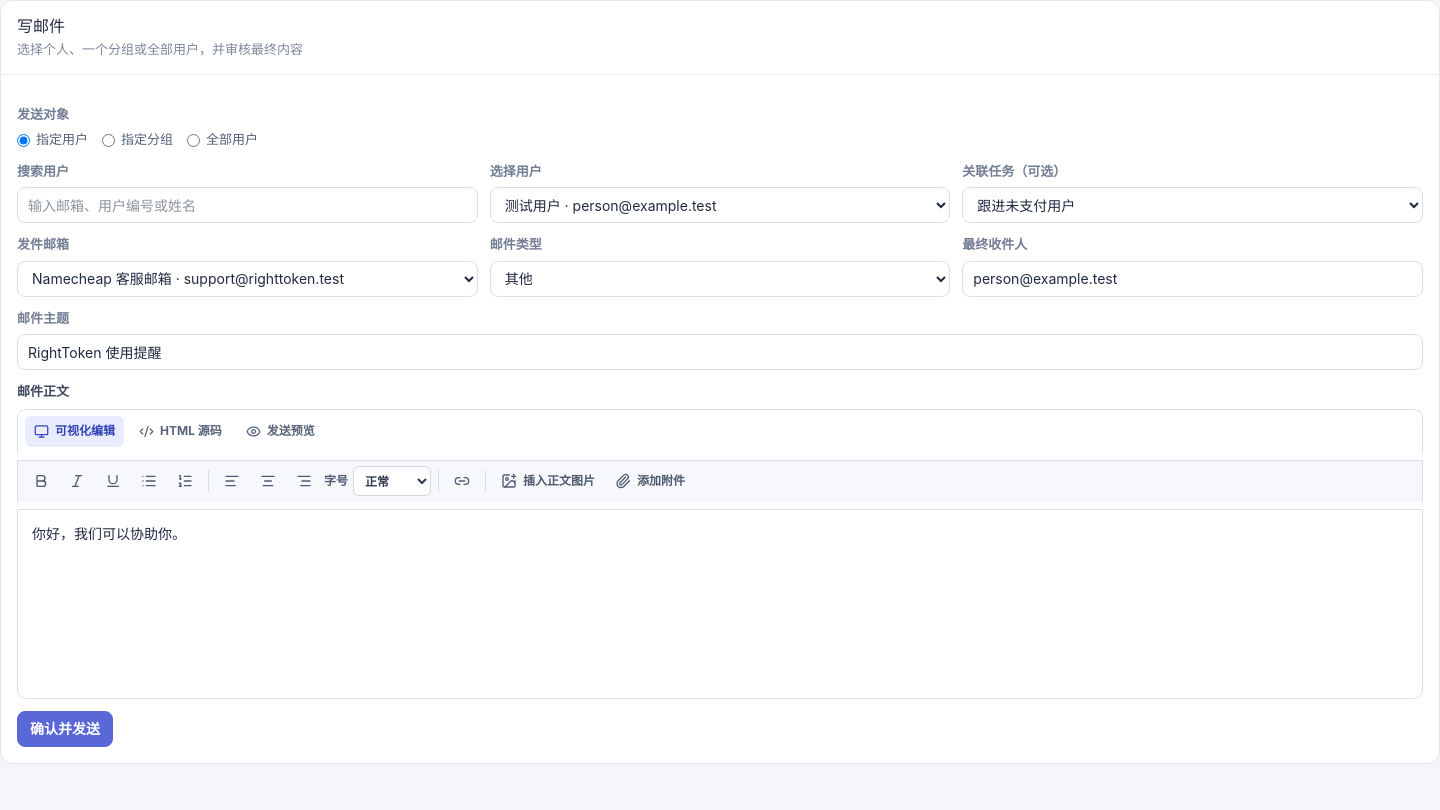
it: MailComposer › blocks an invalid final recipient
Replace the text in the field labelled "最终收件人" with "invalid-email": (1193, 279) [962,261,1423,297]
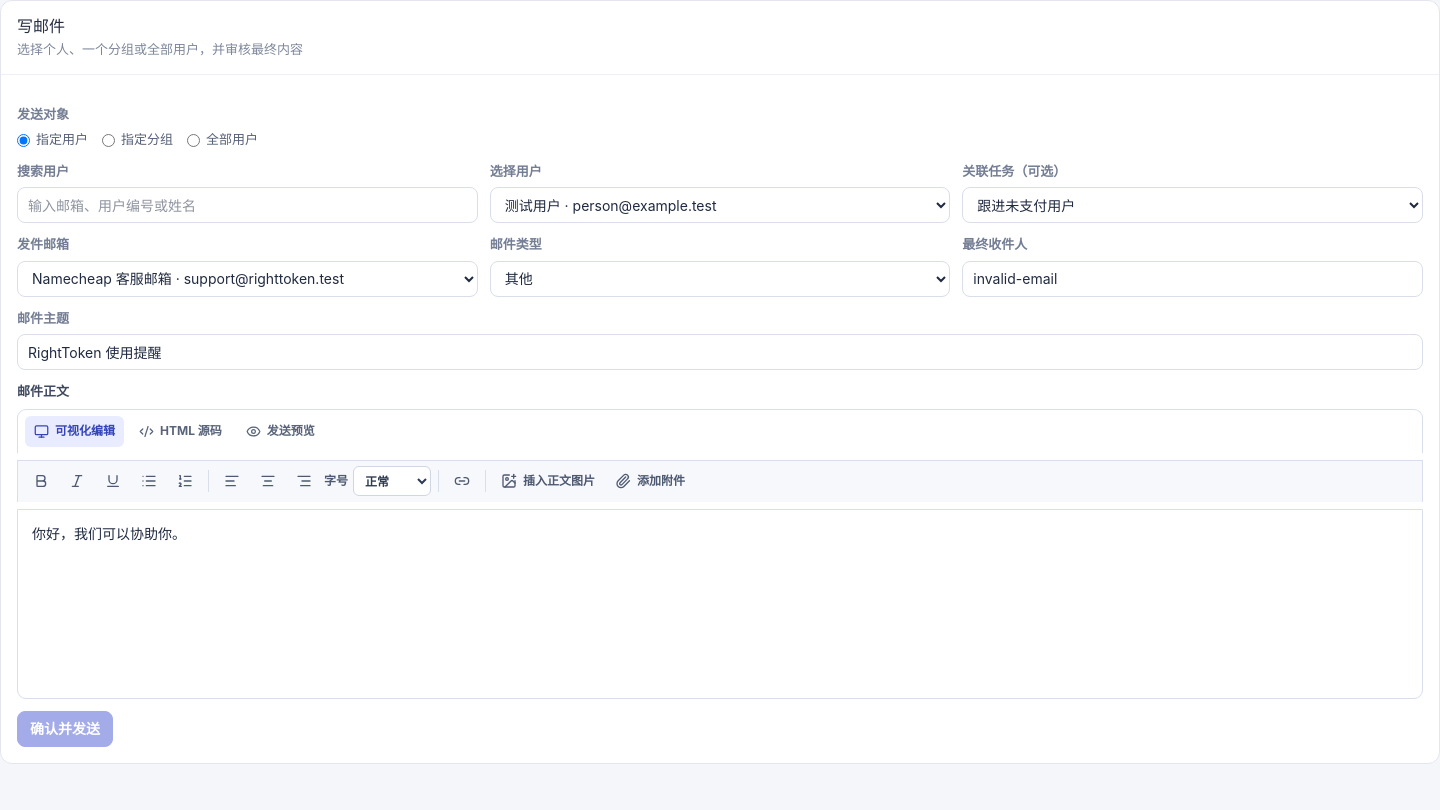
expect the button "确认并发送" is disabled: met, box [17,711,113,747]
